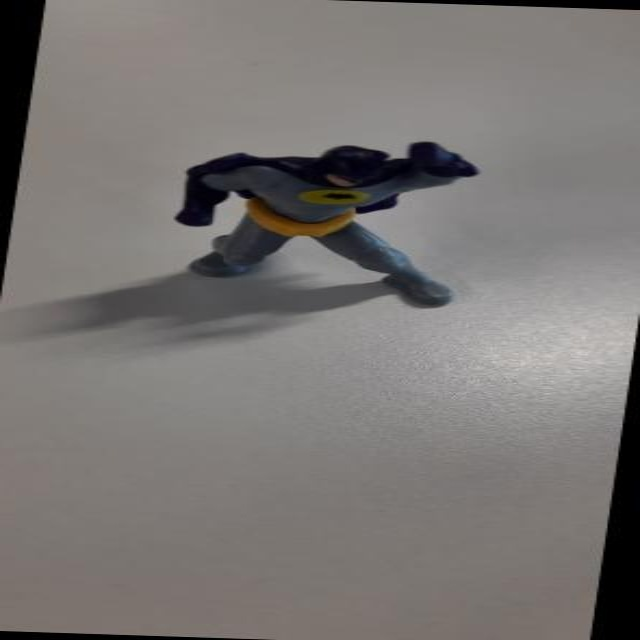Batman: (148, 127, 503, 311)
